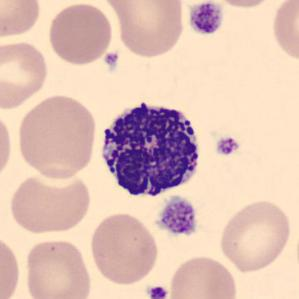Basophil: (92, 93, 208, 204)
Platelets: (154, 195, 200, 239), (185, 0, 225, 37), (214, 134, 240, 158), (102, 50, 120, 71), (146, 284, 170, 299)
RBC: (15, 91, 99, 180), (6, 168, 94, 237), (217, 197, 293, 274), (88, 210, 162, 287), (100, 0, 187, 59), (44, 1, 114, 67), (21, 236, 94, 299), (0, 38, 50, 110), (166, 252, 240, 299), (269, 0, 298, 65), (0, 0, 42, 40), (0, 231, 22, 298), (0, 108, 15, 184), (204, 0, 283, 9)
